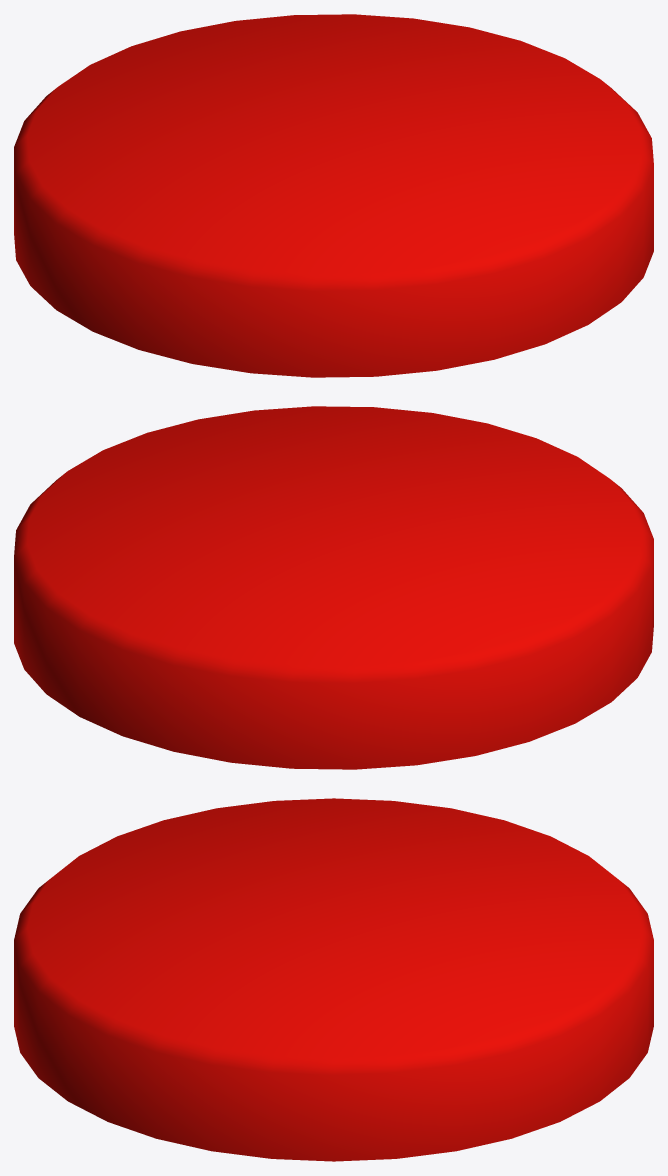
The model's file is button center.fbx.
The picture shows the model from 3 angles, top to bottom: view 1: azimuth 30°, elevation 25°; view 2: azimuth 150°, elevation 25°; view 3: azimuth 270°, elevation 25°; orthographic projection.
Visible parts, largest first — view 1: Button_Center; view 2: Button_Center; view 3: Button_Center.
Part boxes in pixels (x1,y1,x2,y2): Button_Center: [14, 14, 653, 377]; Button_Center: [14, 406, 653, 769]; Button_Center: [14, 798, 653, 1161].
Size of the model in its own units: 60 by 10.17 by 60.
